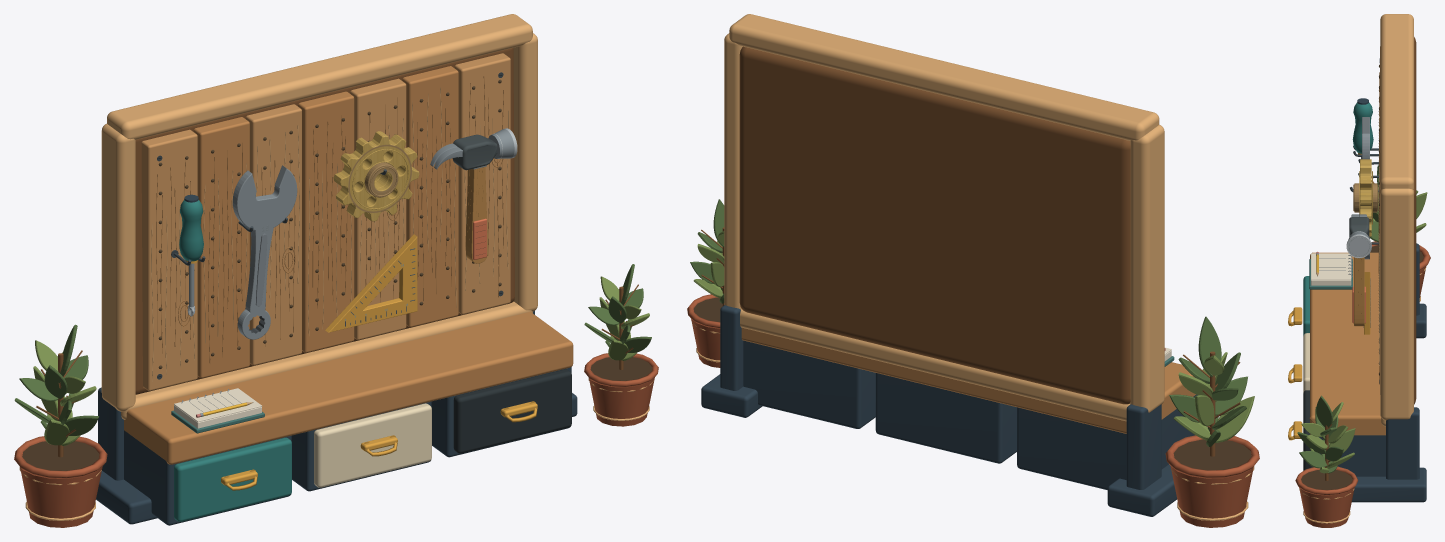
Rendered from workshop-rack-item-selection.glb.
3 views of the same model, side by side, from view 1: azimuth 30°, elevation 25°; view 2: azimuth 150°, elevation 25°; view 3: azimuth 270°, elevation 25° (orthographic). The views are drawn at different scales.
Parts seen in each view (by area): view 1: timber, plank, Refined_Frame_Top, navy, Refined_Frame_Side_-069, Refined_Grey_Drawer, cream, teal, Refined_Frame_Side_069, grain, Refined_Frame_Bottom, brass_2 (+13 smaller); view 2: darkWood, navy, Refined_Frame_Top, Refined_Frame_Side_-069, Refined_Frame_Bottom, timber, pot, Refined_Frame_Side_069, soil, pot_1, Leaf 8, Leaf 1; view 3: timber, Refined_Frame_Side_069, navy, Refined_Frame_Top, pot_1, brass_2, darkWood, Notebook element 3, soil_1, Wood_Handle, Refined_Original_Yellow_Handles, Teal_Handle (+20 smaller).
Part boxes in pixels (left/top/right/bottom): timber: left=124, top=66, right=573, bottom=464; plank: left=141, top=53, right=510, bottom=390; Refined_Frame_Top: left=107, top=14, right=532, bottom=139; navy: left=96, top=311, right=577, bottom=525; Refined_Frame_Side_-069: left=101, top=123, right=135, bottom=411; Refined_Grey_Drawer: left=453, top=369, right=571, bottom=453; cream: left=314, top=403, right=431, bottom=487; teal: left=174, top=437, right=291, bottom=521; Refined_Frame_Side_069: left=513, top=33, right=537, bottom=311; grain: left=156, top=76, right=503, bottom=363; Refined_Frame_Bottom: left=121, top=301, right=532, bottom=419; brass_2: left=333, top=131, right=419, bottom=221; darkWood: left=739, top=46, right=1130, bottom=404; navy: left=701, top=305, right=1197, bottom=516; Refined_Frame_Top: left=729, top=14, right=1159, bottom=140; Refined_Frame_Side_-069: left=1130, top=125, right=1164, bottom=412; Refined_Frame_Bottom: left=740, top=309, right=1130, bottom=421; timber: left=741, top=327, right=1195, bottom=433; pot: left=1165, top=435, right=1259, bottom=527; Refined_Frame_Side_069: left=724, top=33, right=742, bottom=309; soil: left=1173, top=439, right=1251, bottom=470; pot_1: left=687, top=294, right=720, bottom=367; Leaf 8: left=1198, top=316, right=1221, bottom=376; Leaf 1: left=1215, top=396, right=1254, bottom=442; timber: left=1310, top=68, right=1385, bottom=435; Refined_Frame_Side_069: left=1380, top=188, right=1413, bottom=420; navy: left=1313, top=243, right=1426, bottom=502; Refined_Frame_Top: left=1380, top=14, right=1413, bottom=189; pot_1: left=1295, top=466, right=1358, bottom=527; brass_2: left=1353, top=159, right=1378, bottom=236; darkWood: left=1414, top=37, right=1416, bottom=404; Notebook element 3: left=1311, top=253, right=1351, bottom=280; soil_1: left=1301, top=470, right=1352, bottom=489; Wood_Handle: left=1354, top=257, right=1364, bottom=326; Refined_Original_Yellow_Handles: left=1288, top=307, right=1302, bottom=440; Teal_Handle: left=1352, top=102, right=1373, bottom=153.
Size of the model in its own units: 2.04 by 1.25 by 0.5082.
Materials: 56 (1 with a texture image).
